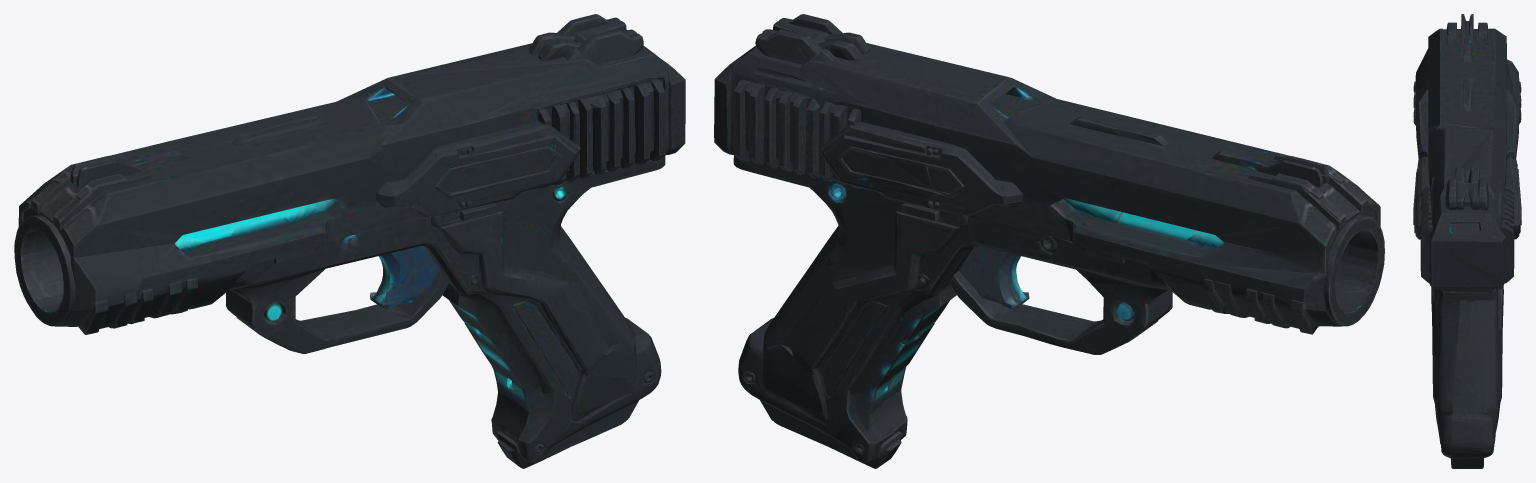
The model's file is wm_pistol.glb.
3 renders of one model, left to right at view 1: azimuth 30°, elevation 25°; view 2: azimuth 150°, elevation 25°; view 3: azimuth 270°, elevation 25°, orthographic. The views are drawn at different scales.
Bounding box in the file's own units: 1.9 × 1.23 × 0.4063.
1 material, 1 textured.
